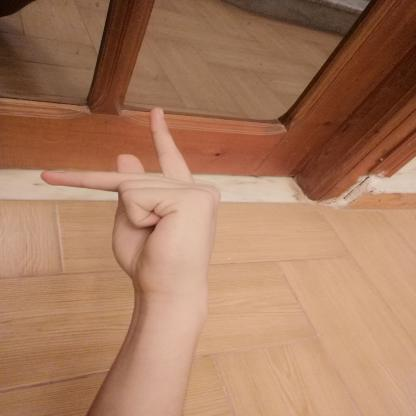DHAA: (31, 100, 229, 300)
